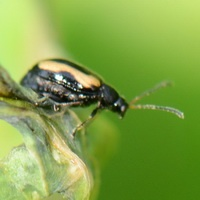insect: (21, 59, 128, 117)
